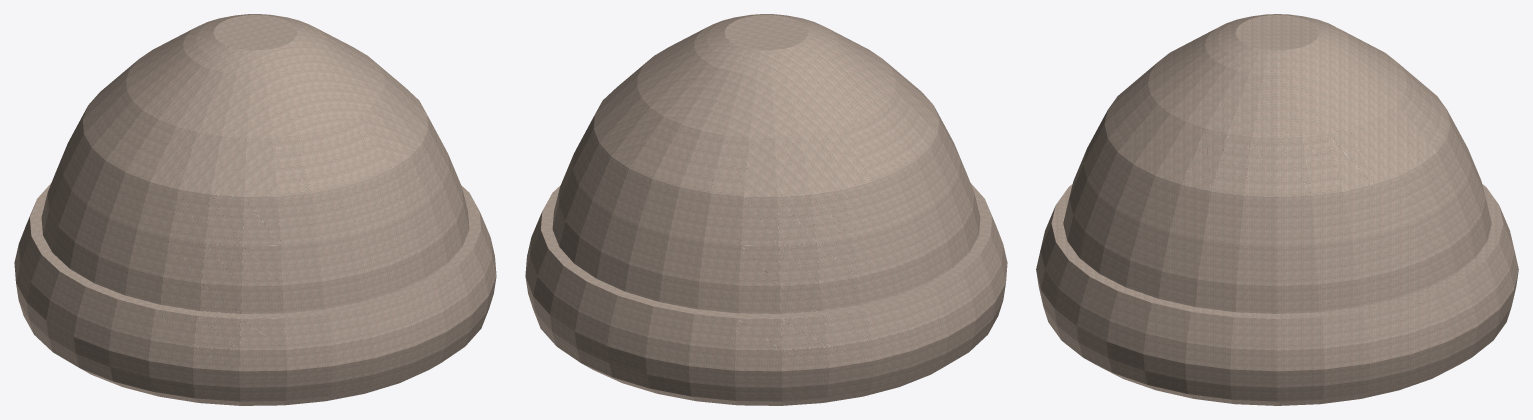
The model's file is chulo.glb.
3 renders of one model, left to right at view 1: azimuth 30°, elevation 25°; view 2: azimuth 150°, elevation 25°; view 3: azimuth 270°, elevation 25°, orthographic.
Parts seen in each view (by area): view 1: Circle; view 2: Circle; view 3: Circle.
Boxes of the visible parts, <box> form: Circle: <box>14,14,496,405</box>; Circle: <box>525,14,1007,405</box>; Circle: <box>1036,14,1518,405</box>.
Size of the model in its own units: 4.95 by 3.18 by 4.95.
Materials: 1 (1 with a texture image).
